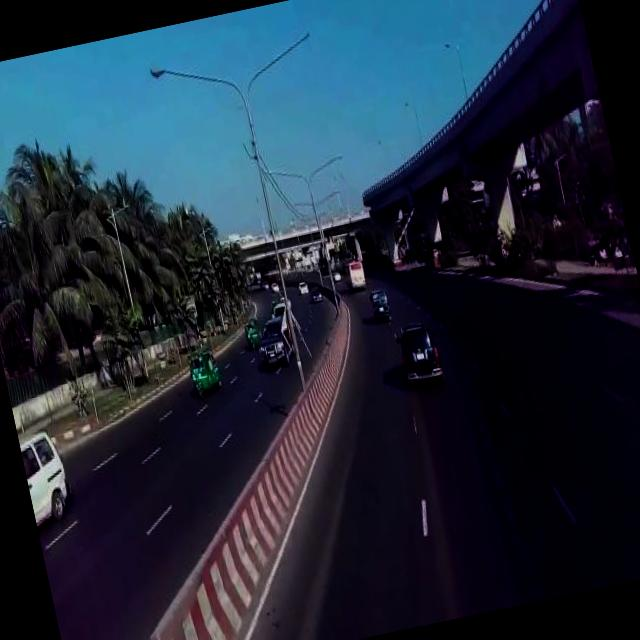bus: (342, 255, 369, 292)
car: (393, 318, 449, 392), (252, 312, 294, 370)
motorcycle: (184, 338, 228, 402), (243, 315, 265, 351)
truck: (367, 280, 394, 322)
